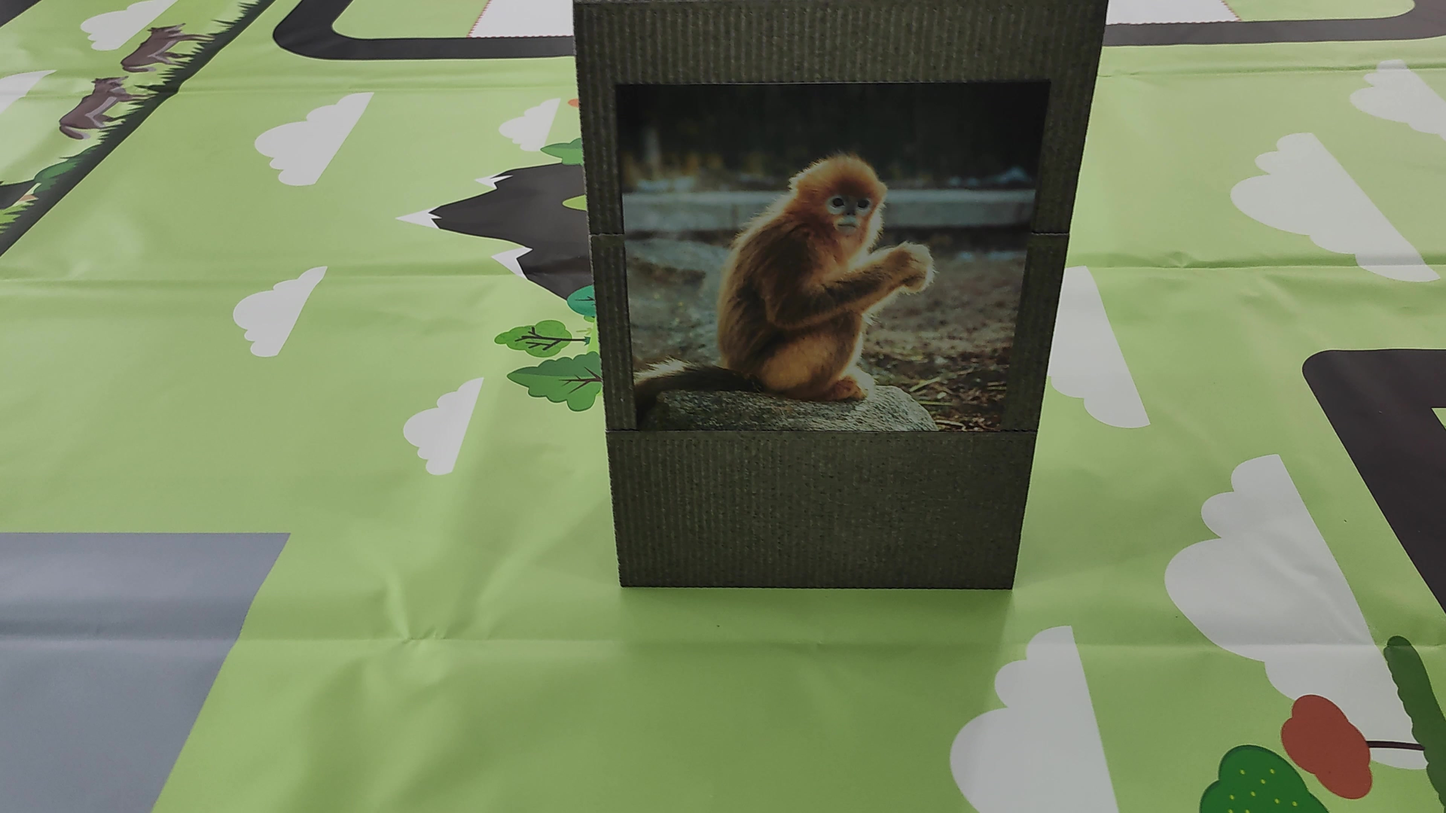monkey: (668, 126, 952, 420)
